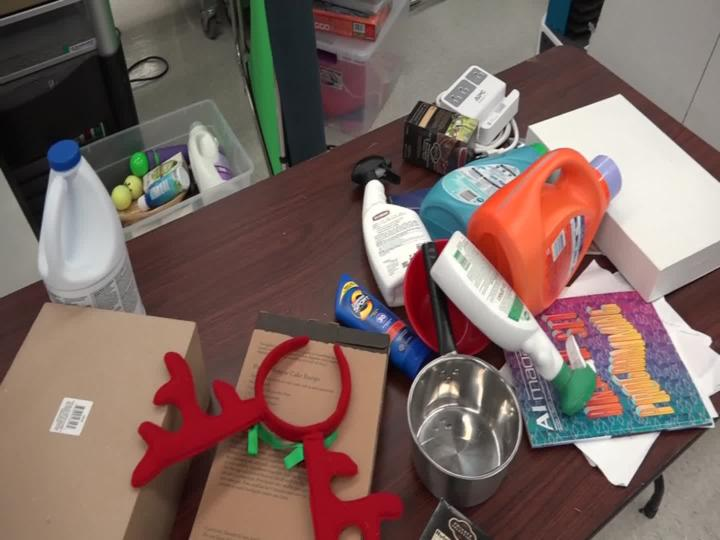tide: (448, 137, 631, 336)
